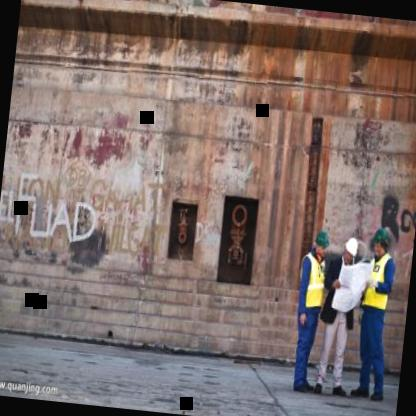helmet: (369, 226, 392, 260), (312, 229, 332, 258), (342, 235, 359, 264)
